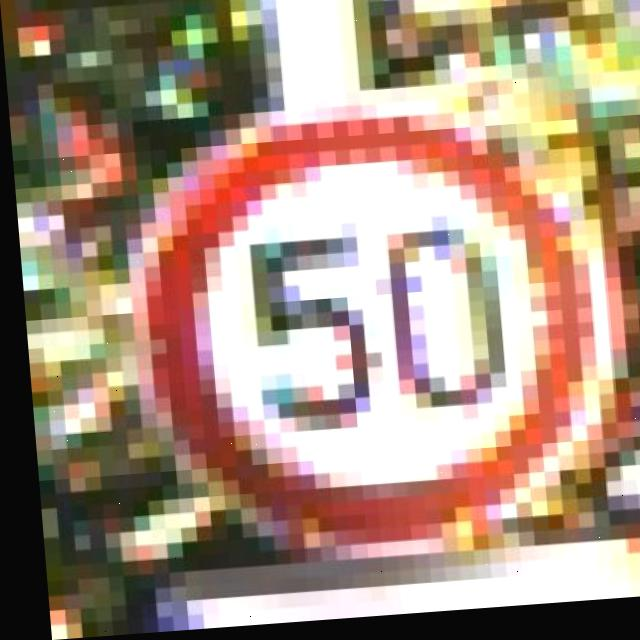Speed limit 50: (137, 102, 587, 566)
